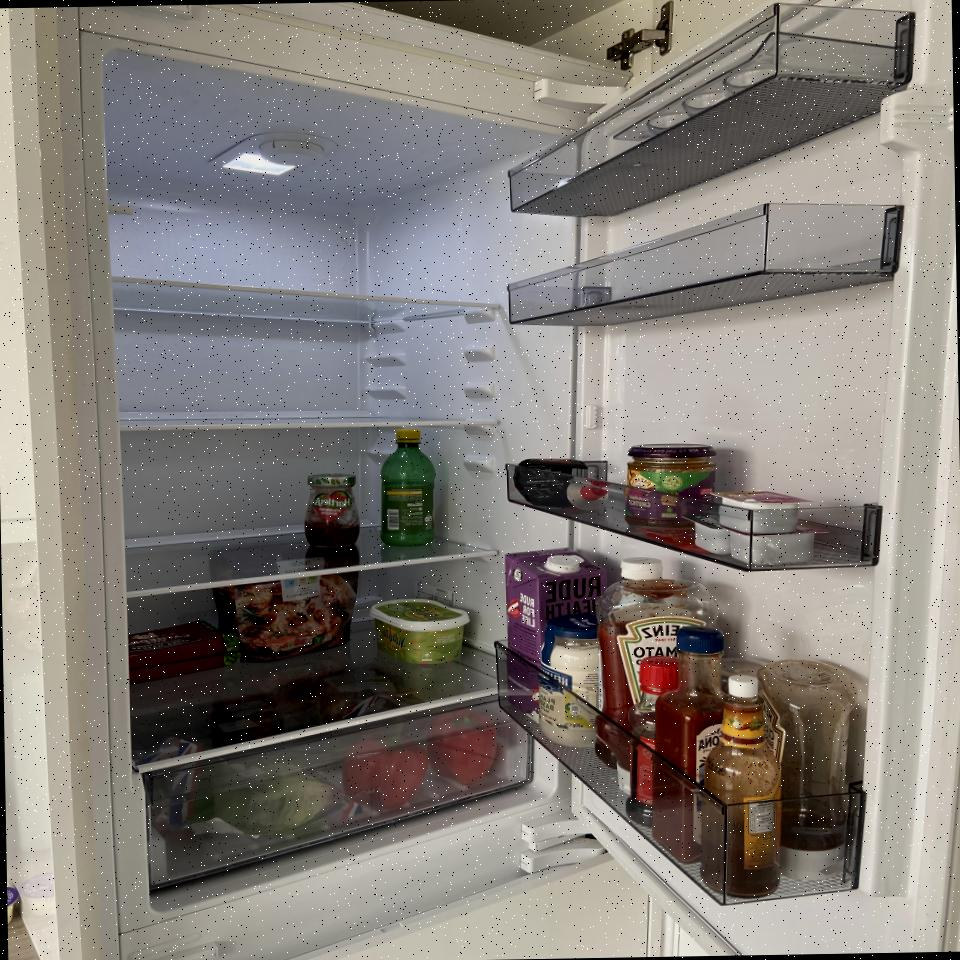Lechuga/Endivia: (216, 762, 341, 836)
bell pepper: (345, 736, 426, 812), (426, 710, 498, 786)
ketchup: (592, 578, 722, 768)
mayonnaise: (537, 614, 600, 748)
